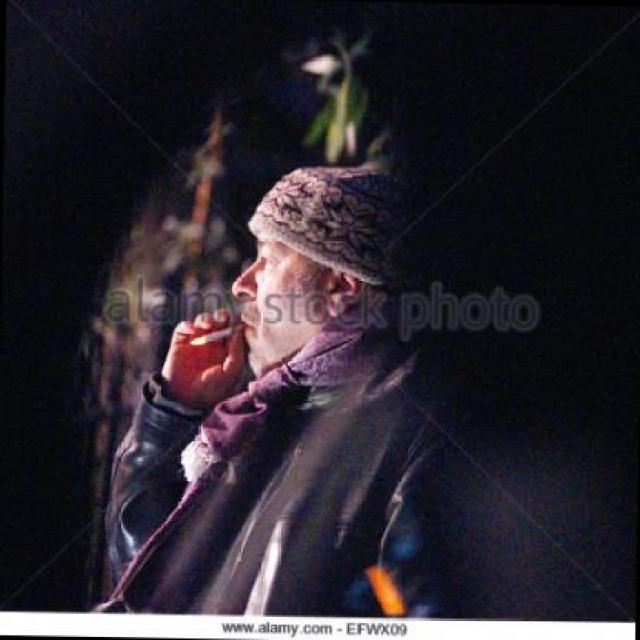cigarette: (188, 319, 248, 352)
